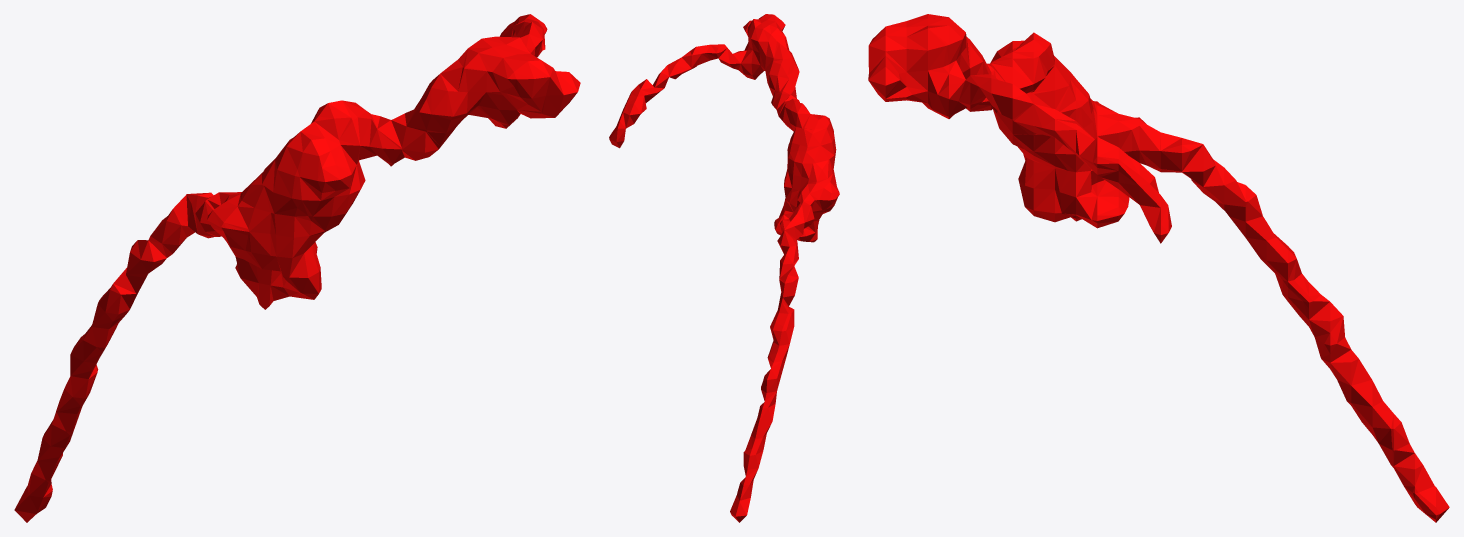
The model's file is hflC_coarse.dae.
3 views of the same model, side by side, from view 1: azimuth 30°, elevation 25°; view 2: azimuth 150°, elevation 25°; view 3: azimuth 270°, elevation 25° (orthographic). The views are drawn at different scales.
Visible parts, largest first — view 1: hflC; view 2: hflC; view 3: hflC.
Part boxes in pixels (x1,y1,x2,y2): hflC: (14,14,580,522); hflC: (609,14,839,522); hflC: (868,14,1449,522).
Bounding box in the file's own units: 133 × 208 × 180.
